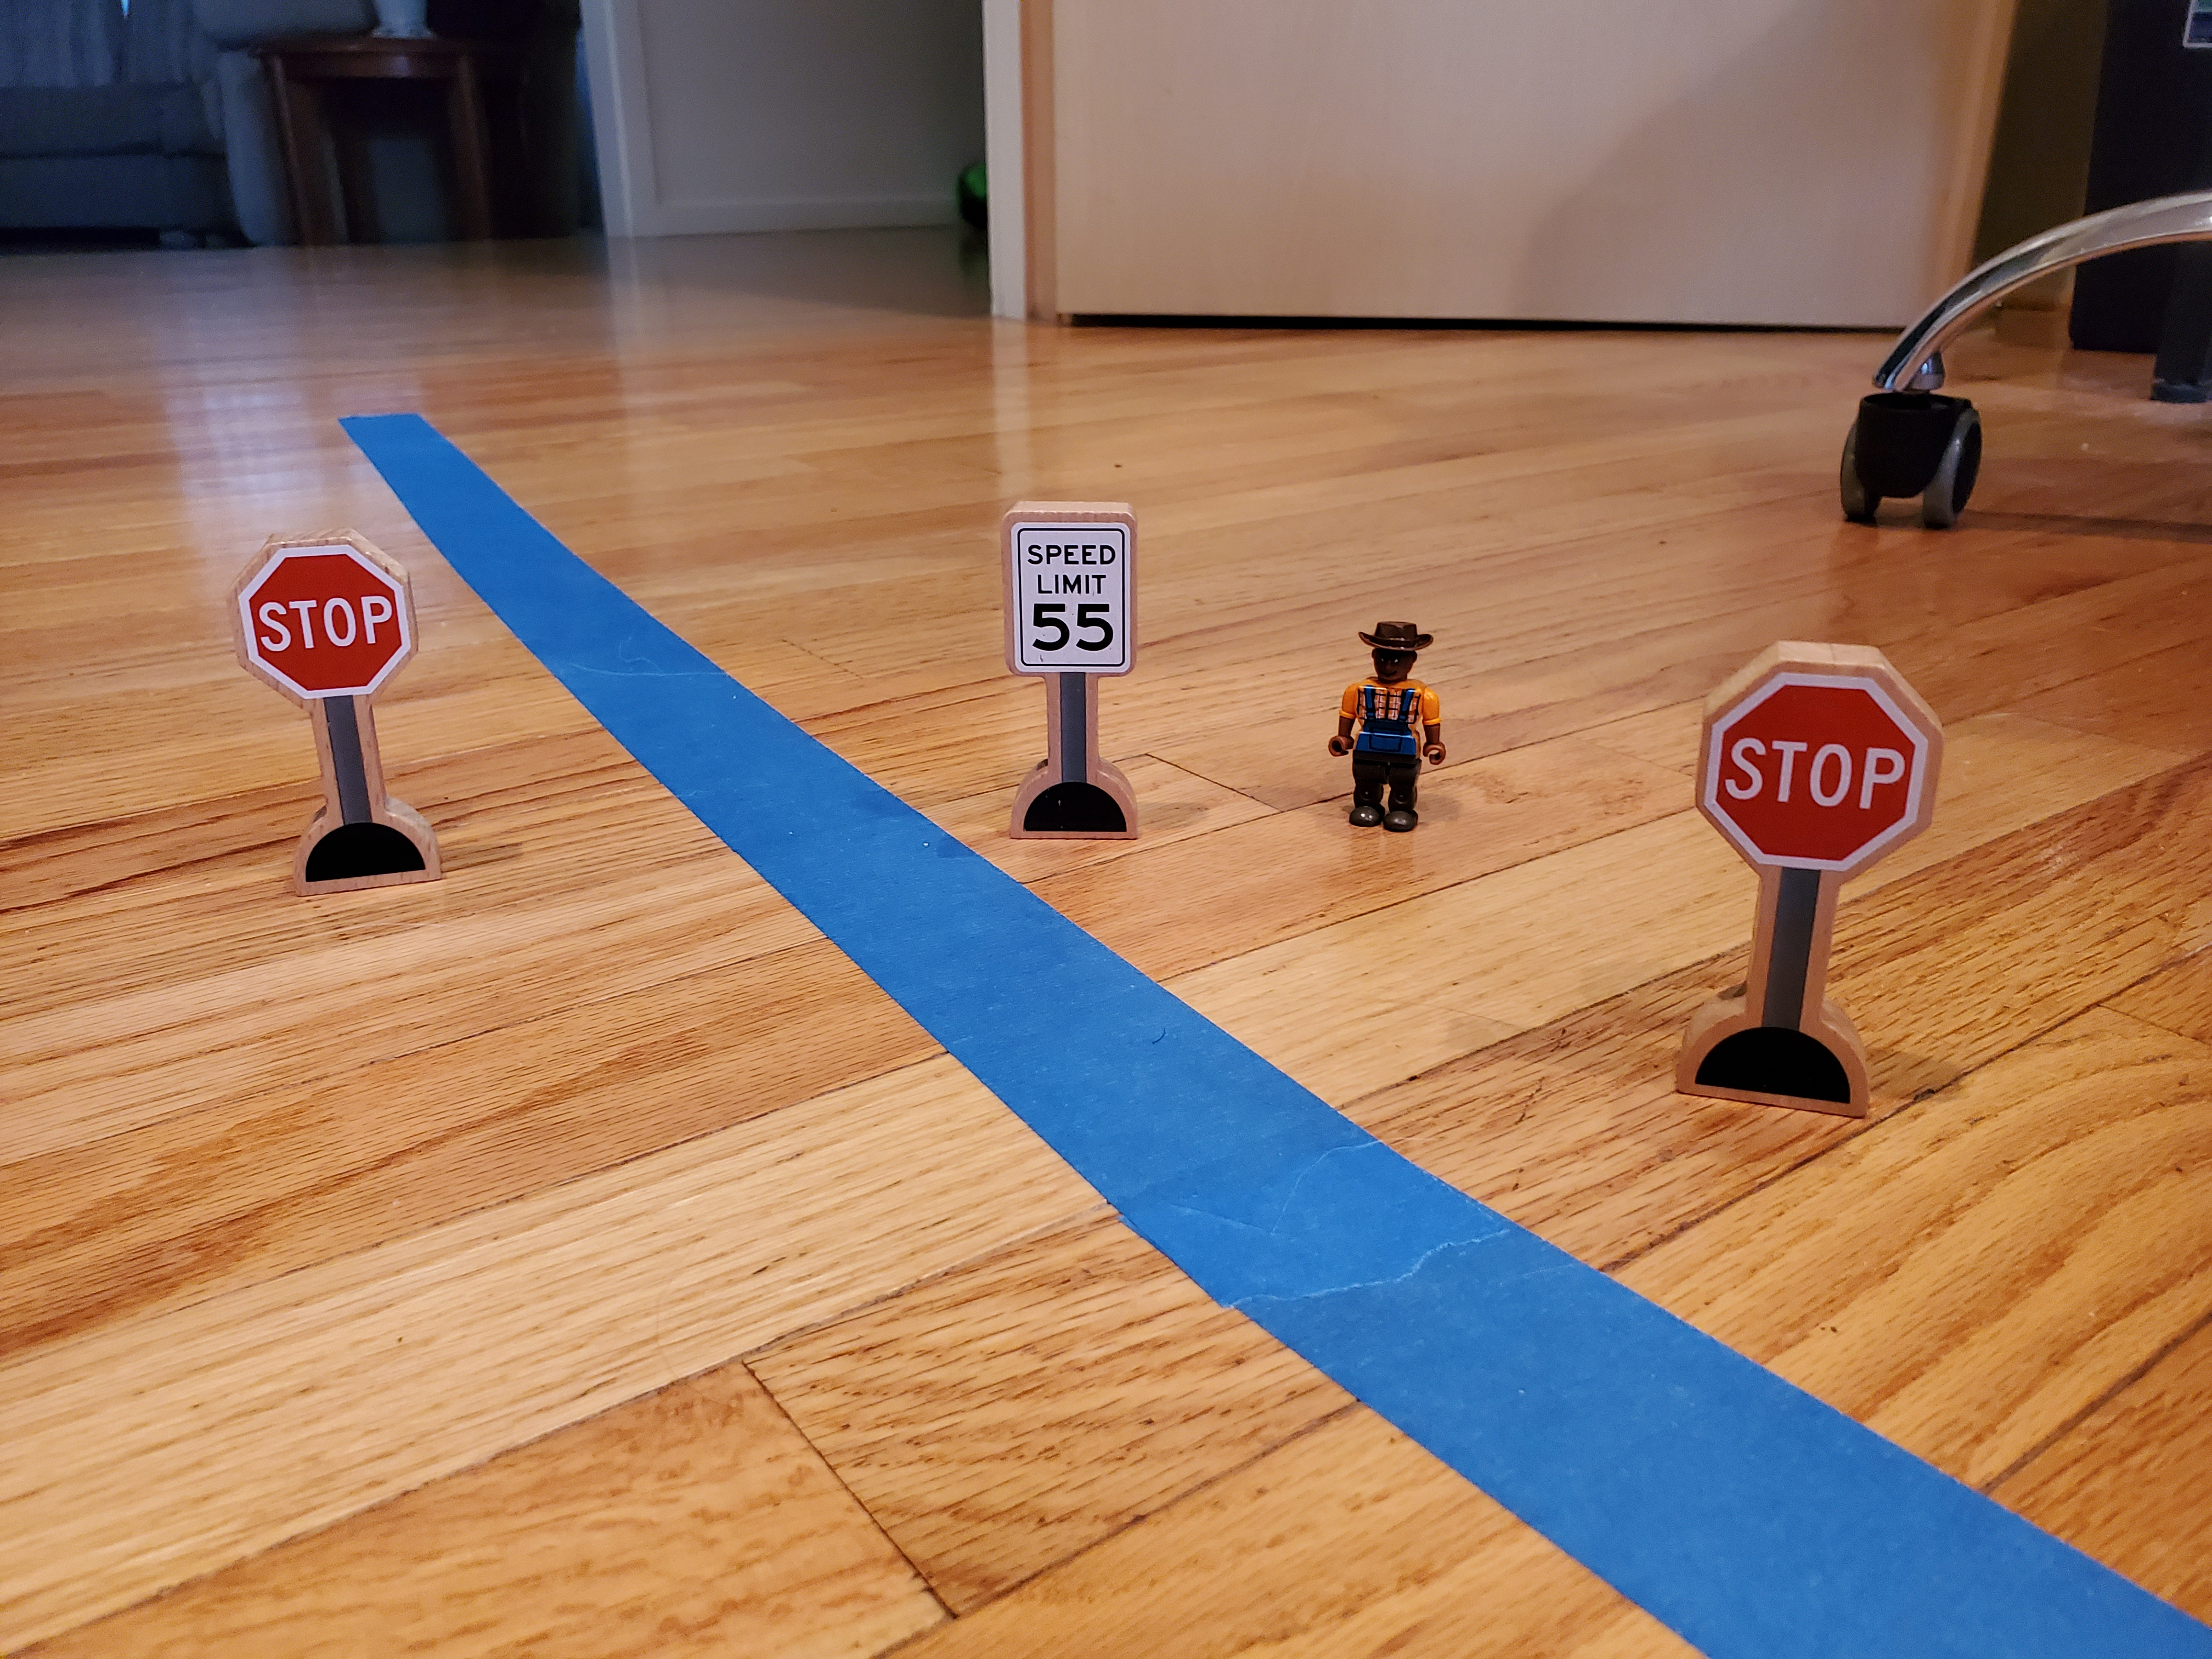Speed Limit 55: (1000, 494, 1143, 685)
Stop Sign: (1697, 623, 1948, 891), (216, 531, 428, 706)
person: (1327, 611, 1449, 844)
